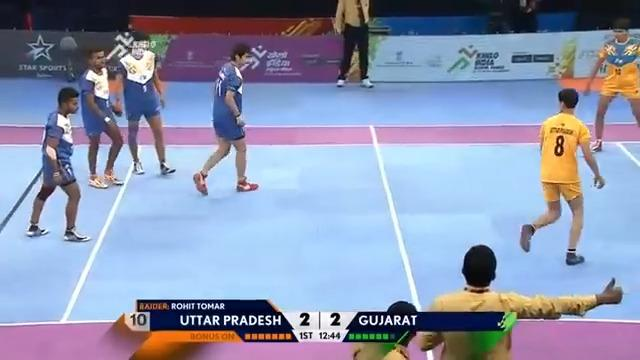Player: (517, 85, 606, 266), (23, 85, 93, 244), (191, 41, 261, 197), (112, 29, 177, 176), (582, 17, 638, 152), (76, 46, 126, 189)
referee: (416, 244, 623, 358), (332, 0, 375, 88)
